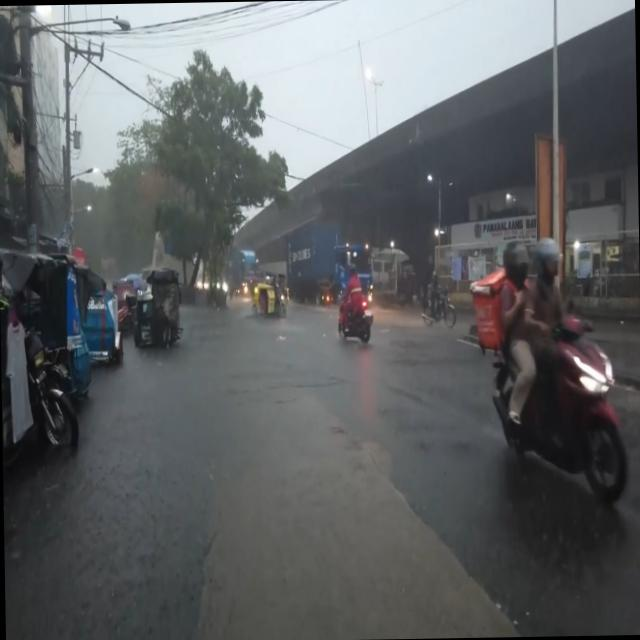full: (500, 240, 530, 286)
half: (532, 238, 562, 280)
